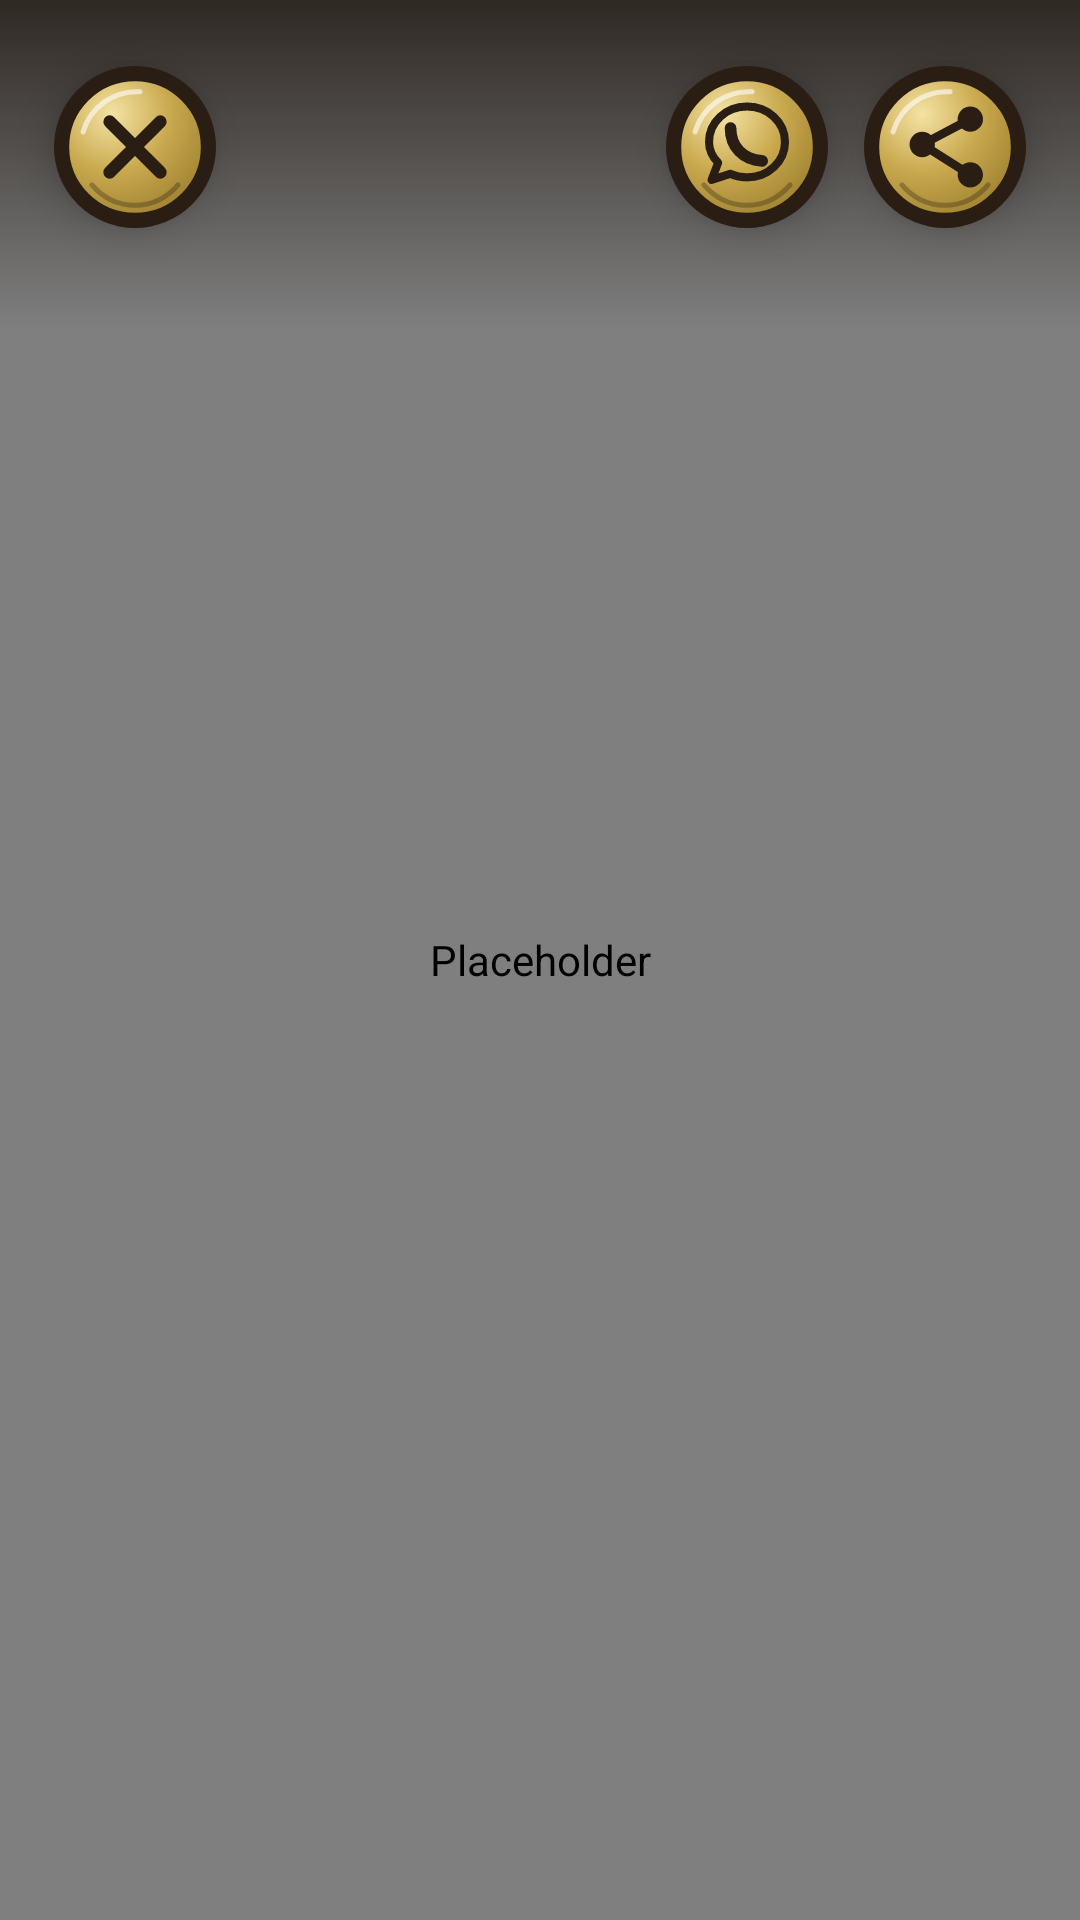

Icons on this 1080w x 1920h Android screen, each with the point to tap as (x=x, y=y):
Close: (x=135, y=147)
Share: (x=945, y=147)
